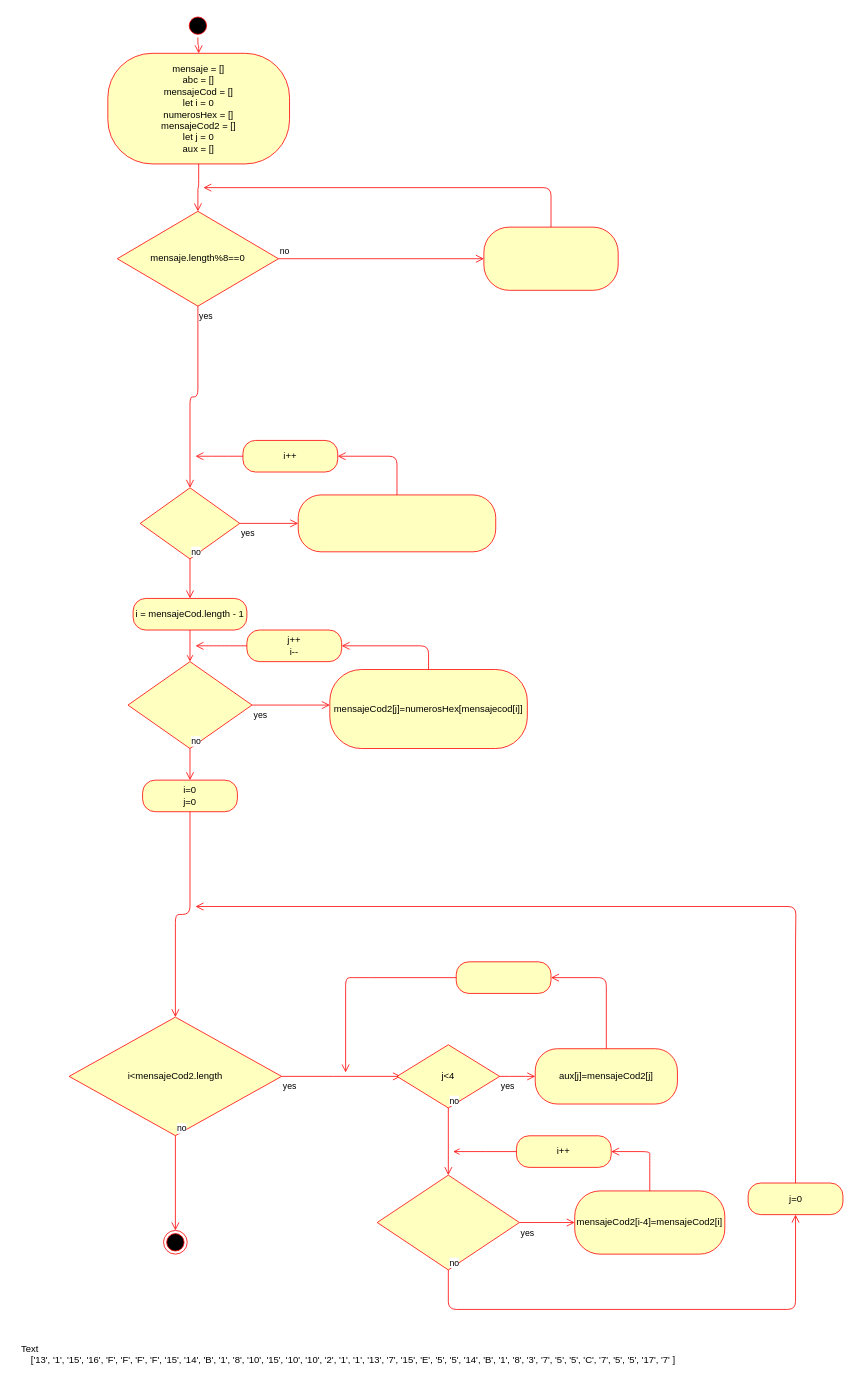
This 856x1386 diagram has some shape labels left out. Each missing label, with the centre of its shape:
i<8: (x=447, y=1222)
i<mensaje.length: (x=189, y=523)
i>=0: (x=189, y=705)
j++ i++: (x=503, y=977)
mensaje.push=ñ: (x=550, y=258)
mensajeCod[i]=abc.indexOf(mensaje[i]): (x=396, y=523)
